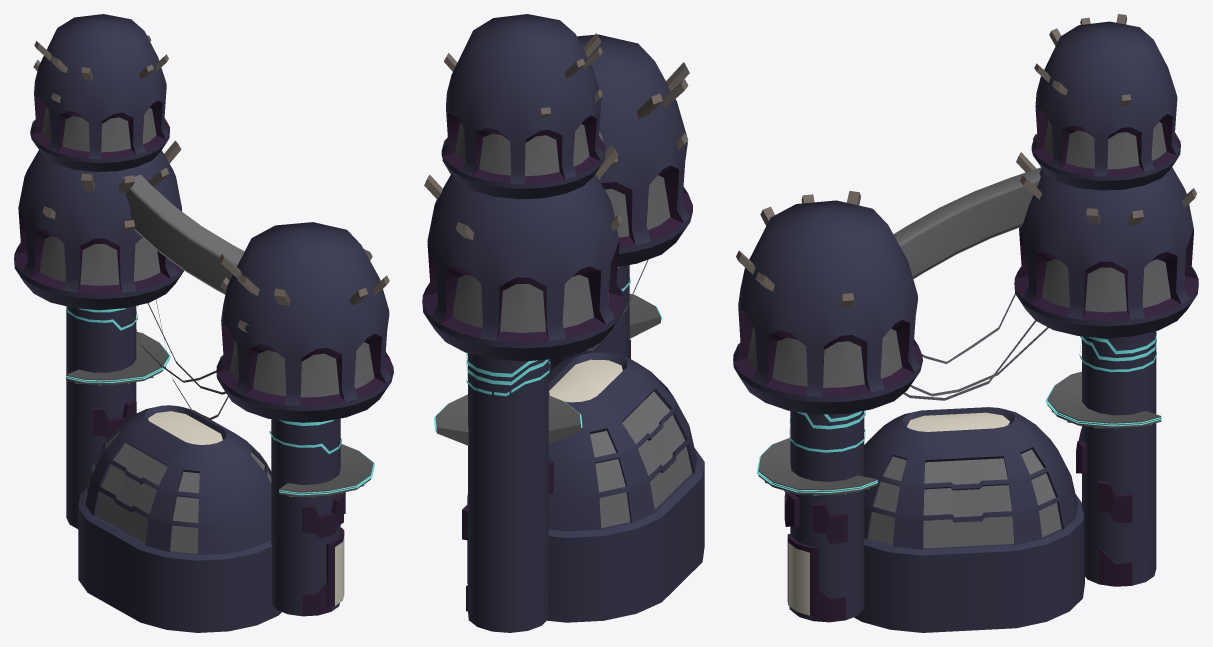
File: Lower_Plaza_Hotel.fbx
The picture shows the model from 3 angles, left to right: view 1: azimuth 30°, elevation 25°; view 2: azimuth 150°, elevation 25°; view 3: azimuth 270°, elevation 25°; orthographic projection. The views are drawn at different scales.
Visible parts, largest first — view 1: Lower_Plaza_Hotel; view 2: Lower_Plaza_Hotel; view 3: Lower_Plaza_Hotel.
Boxes of the visible parts, <box> form: Lower_Plaza_Hotel: <box>14,14,393,632</box>; Lower_Plaza_Hotel: <box>422,14,704,632</box>; Lower_Plaza_Hotel: <box>733,14,1198,632</box>.
Size of the model in its own units: 40.87 by 89.05 by 68.22.
